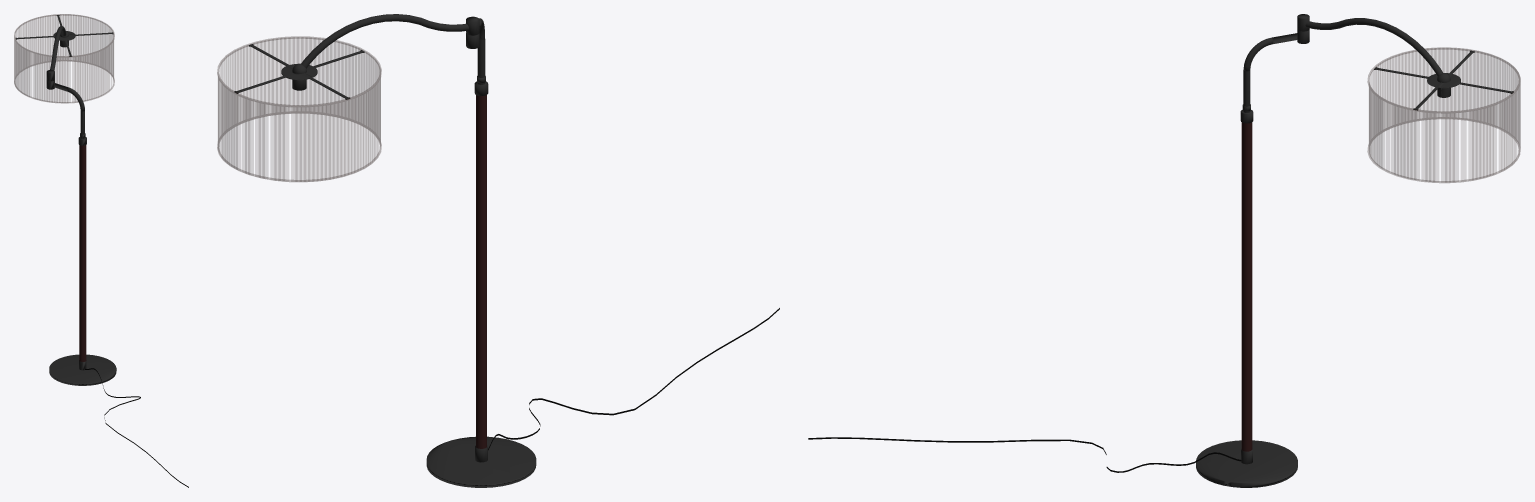
Rendered from Torchere Century Terra N270813.dae.
The picture shows the model from 3 angles, left to right: view 1: azimuth 30°, elevation 25°; view 2: azimuth 150°, elevation 25°; view 3: azimuth 270°, elevation 25°; orthographic projection. The views are drawn at different scales.
Visible parts, largest first — view 1: 1:14:6, 1:7:6, 1:13:6, 1:10:6, Line01, 1:11:6; view 2: 1:7:6, 1:14:6, 1:3:6, 1:13:6, 1:10:6, Line01, 1:11:6; view 3: 1:14:6, 1:7:6, Line01, 1:3:6, 1:13:6, 1:10:6.
Part boxes in pixels (x1,y1,x2,y2): 1:14:6: (79, 145, 86, 361); 1:7:6: (49, 354, 116, 385); 1:13:6: (15, 15, 113, 56); 1:10:6: (14, 14, 114, 57); Line01: (85, 368, 188, 487); 1:11:6: (14, 60, 114, 103); 1:7:6: (426, 436, 536, 487); 1:14:6: (476, 95, 486, 448); 1:3:6: (301, 14, 421, 68); 1:13:6: (234, 44, 364, 99); 1:10:6: (217, 36, 381, 106); Line01: (488, 308, 779, 450); 1:11:6: (217, 111, 381, 181); 1:14:6: (1241, 122, 1252, 451); 1:7:6: (1196, 440, 1297, 487); Line01: (808, 437, 1241, 472); 1:3:6: (1344, 18, 1442, 76); 1:13:6: (1374, 50, 1513, 110); 1:10:6: (1367, 47, 1520, 113).
Bounding box in the file's own units: 26.39 × 82.59 × 59.05.
